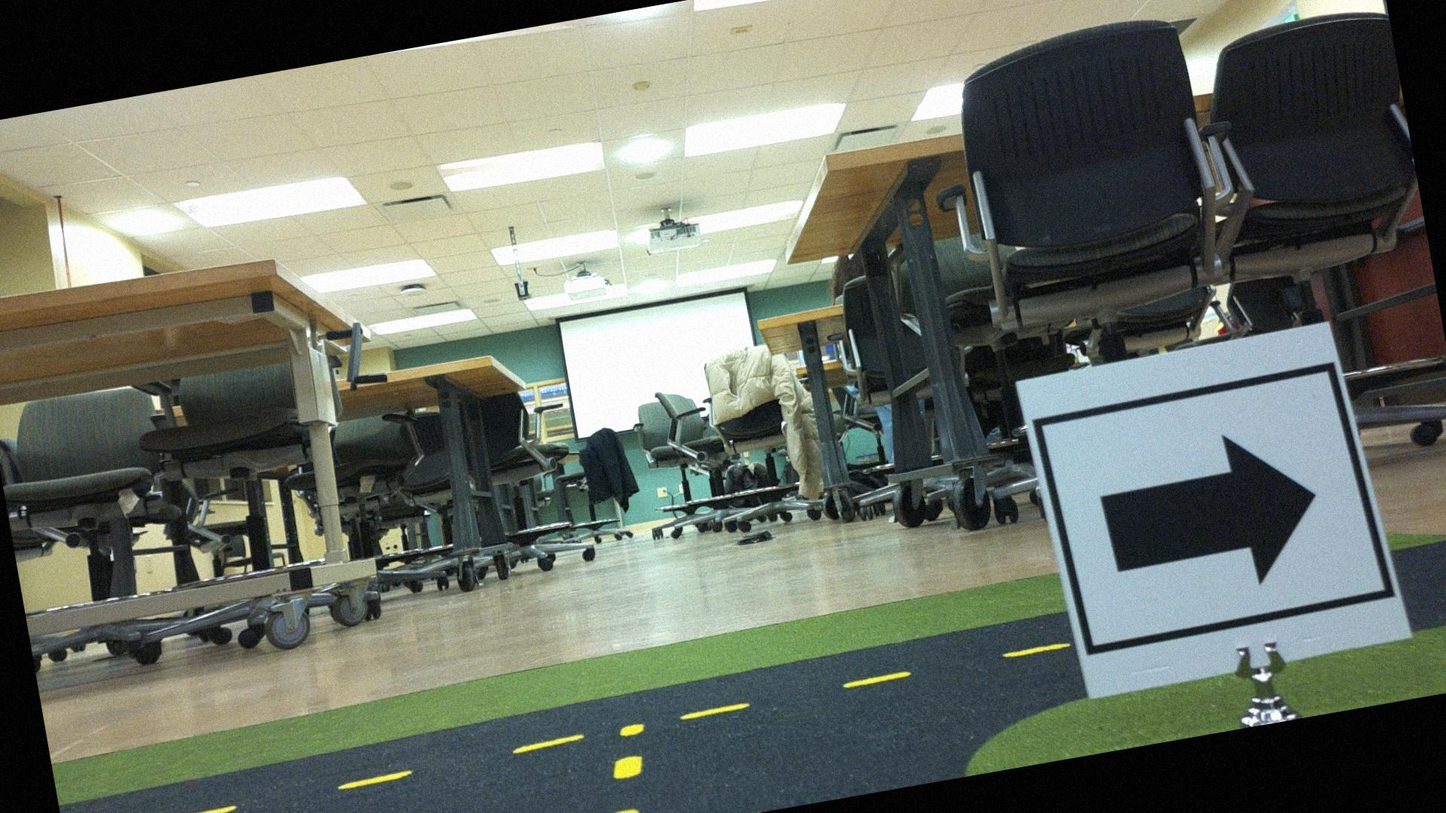turnleft: (1021, 325, 1390, 696)
yellowline: (154, 640, 1060, 812), (586, 751, 657, 812)
